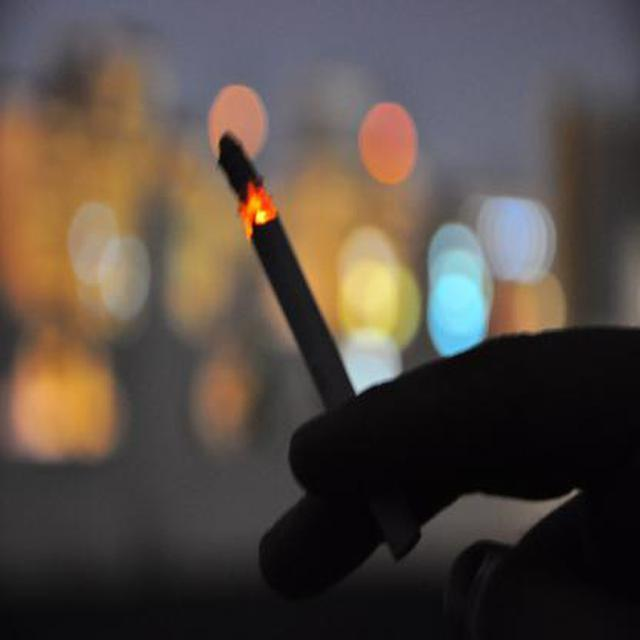smoking: (198, 124, 418, 551)
